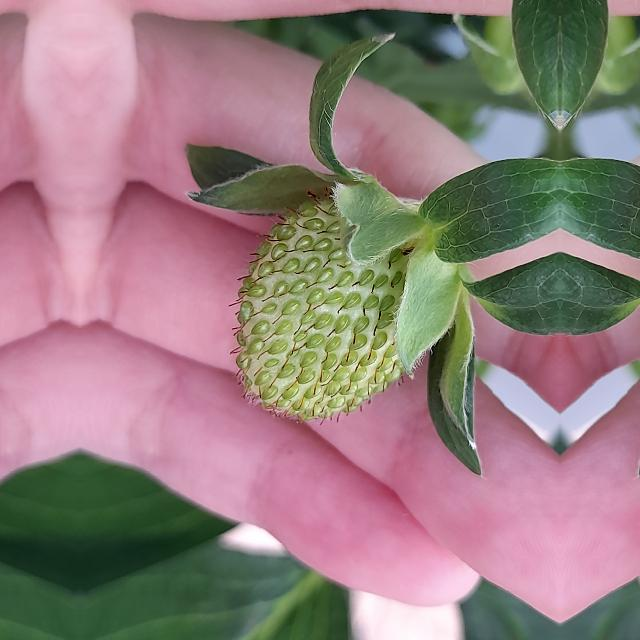Health_25: (228, 190, 454, 426)
